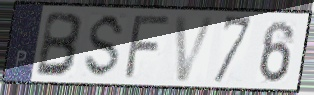6: (258, 19, 297, 84)
7: (211, 14, 255, 85)
B: (33, 10, 86, 79)
F: (121, 14, 174, 81)
S: (82, 12, 128, 81)
V: (173, 14, 219, 83)
